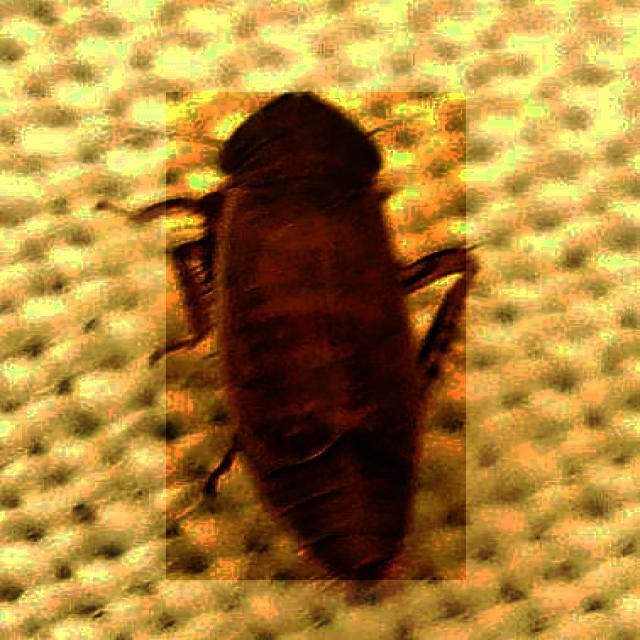green-leafhopper: (166, 92, 466, 580)
